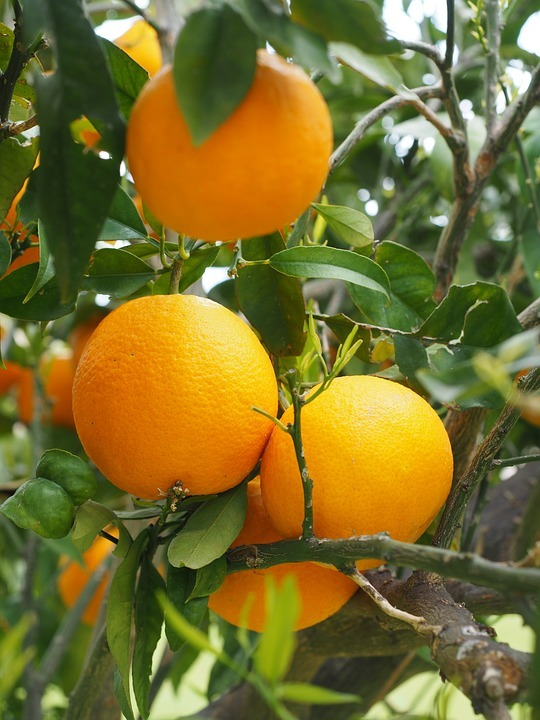orange: (77, 296, 286, 514), (254, 376, 466, 575), (124, 57, 335, 253), (189, 461, 391, 631)
